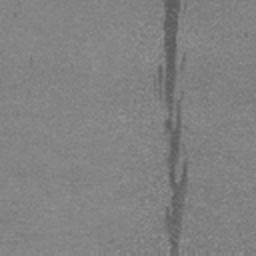Red iron sheet: (157, 0, 189, 256)
